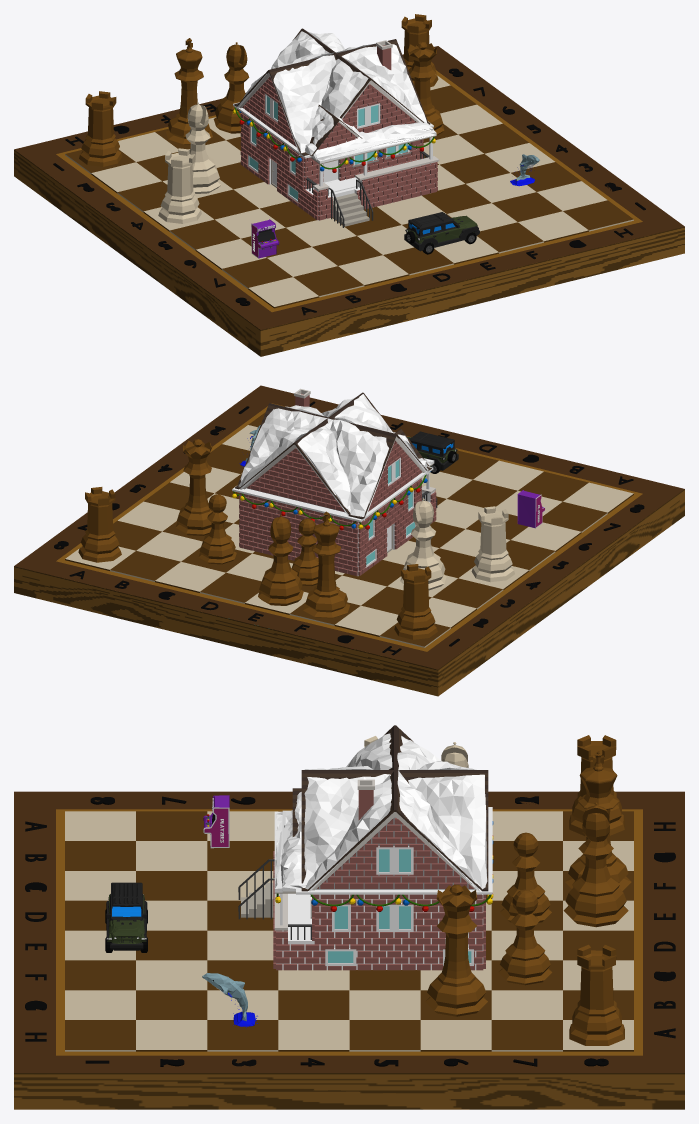
3 renders of one model, top to bottom at view 1: azimuth 30°, elevation 25°; view 2: azimuth 150°, elevation 25°; view 3: azimuth 270°, elevation 25°, orthographic. The views are drawn at different scales.
Visible parts, largest first — view 1: Cube.002, Cube.1419, VEHICLES_JEEP, OBJRANDOM_ARCADE; view 2: Cube.002, Cube.1419, VEHICLES_JEEP, OBJRANDOM_ARCADE; view 3: Cube.002, Cube.1419, VEHICLES_JEEP, OBJRANDOM_ARCADE, ANIMAL_DELFIN.
Part boxes in pixels (x1,y1,x2,y2): Cube.002: (14,14,684,356); Cube.1419: (232,28,439,227); VEHICLES_JEEP: (404,212,479,254); OBJRANDOM_ARCADE: (251,219,279,258); Cube.002: (14,385,684,696); Cube.1419: (232,388,437,576); VEHICLES_JEEP: (407,431,458,473); OBJRANDOM_ARCADE: (517,490,545,528); Cube.002: (14,735,684,1109); Cube.1419: (238,725,493,970); VEHICLES_JEEP: (105,882,147,952); OBJRANDOM_ARCADE: (203,795,229,848); ANIMAL_DELFIN: (202,973,257,1027).
Bounding box in the file's own units: 3981 × 1462 × 4012.
48 materials, 2 textured.
